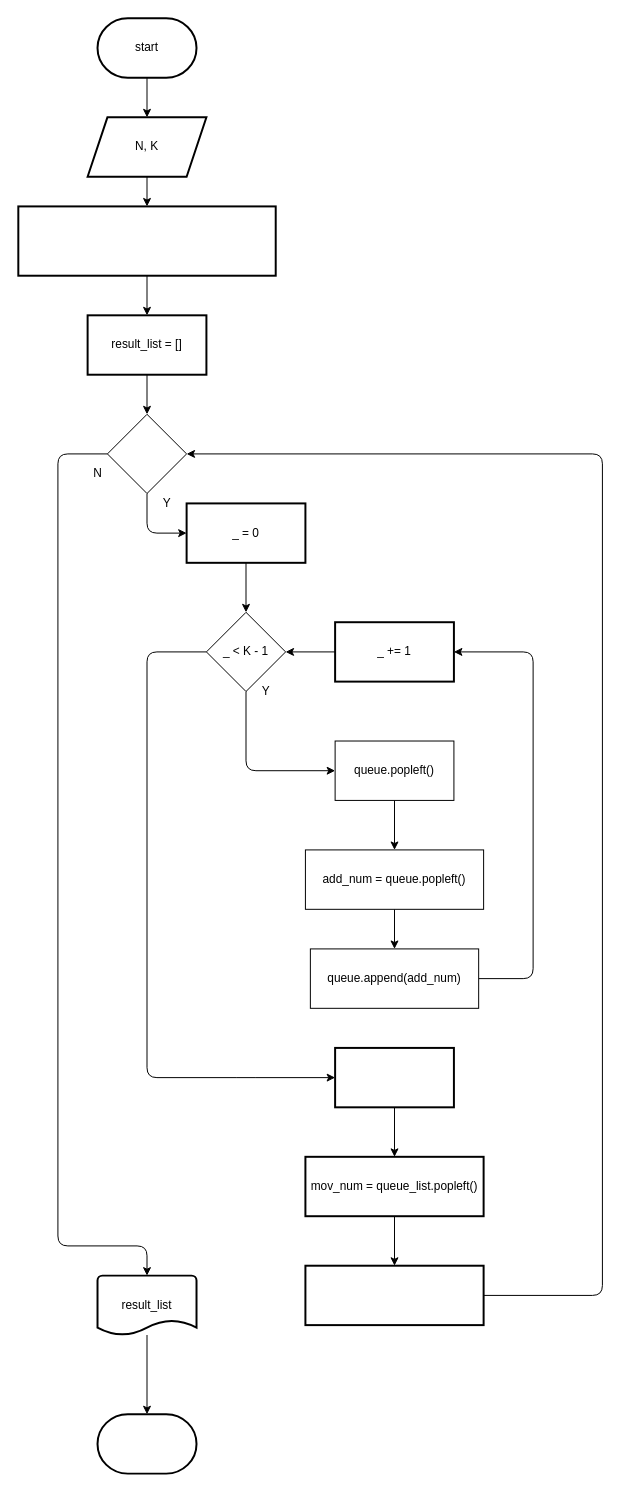
The diagram is 628 pixels wide and 1491 high, and some of its shapes have lost their labels. The shapes that lost their labels are listed below. From the top down, each one's centre as x and y in pixels, then its label:
the point at 146,240: queue = deque(list(range(1, N+1))
the point at 146,453: queue
the point at 394,1077: queue_list.popleft()
the point at 394,1295: result_list.append(mov_num)
the point at 146,1443: finish
